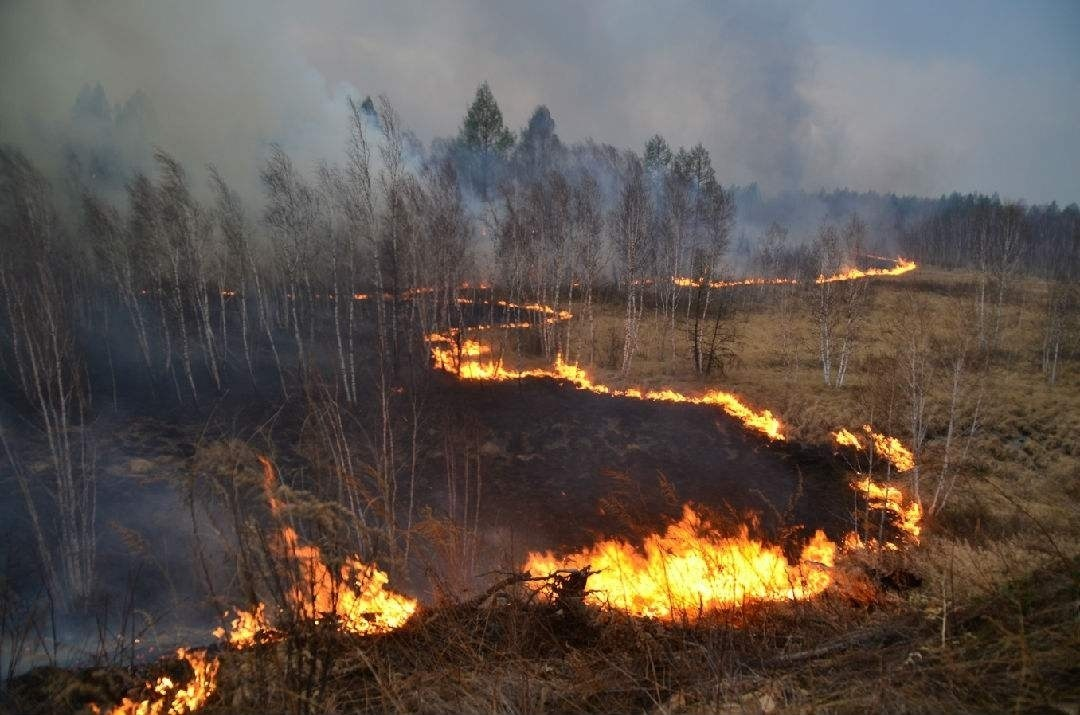fire: (431, 272, 799, 438), (532, 506, 886, 617), (227, 450, 419, 647), (832, 422, 928, 552)
